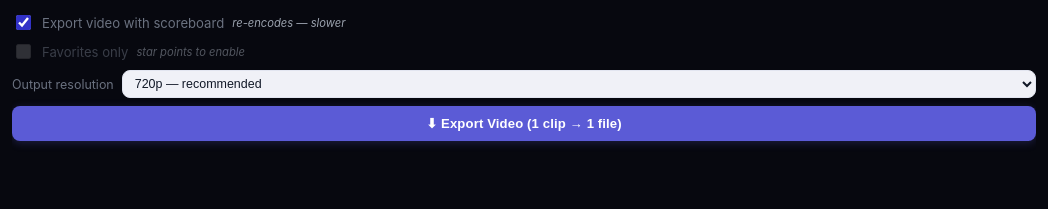
Scenario: VideoExporter › shows error message and retry button when FFmpeg load throws
Click the button "⬇ Export Video (1 clip → 1 file)": (524, 124) left=12, top=106, right=1036, bottom=141
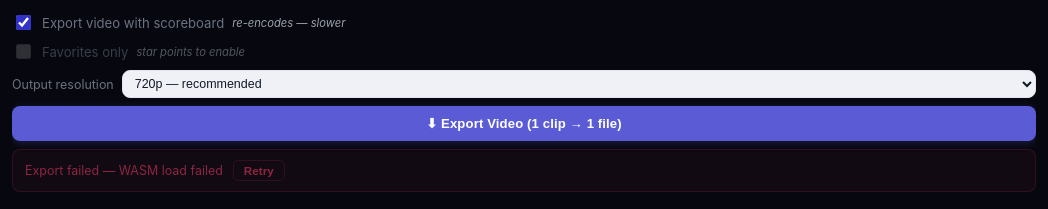
Expected: the text "Export failed — WASM load failed" is shown, left=25, top=163, right=223, bottom=178
Expected: the button "Retry" is shown, left=233, top=160, right=285, bottom=181
